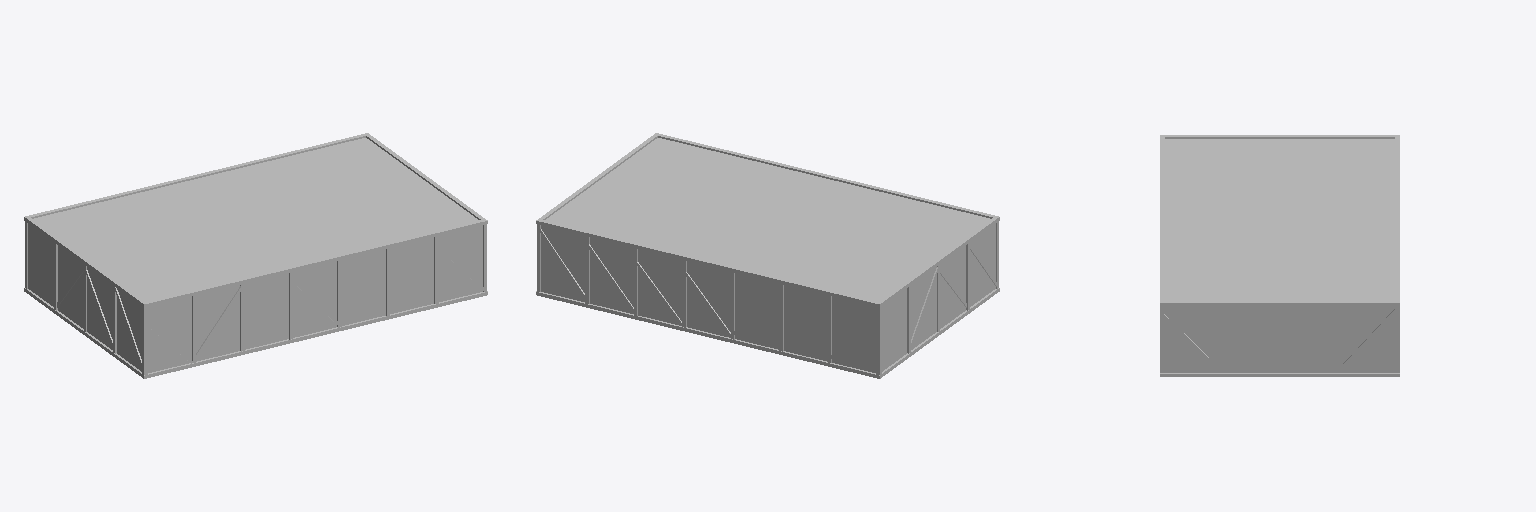
The model's file is floor.obj.
3 views of the same model, side by side, from view 1: azimuth 30°, elevation 25°; view 2: azimuth 150°, elevation 25°; view 3: azimuth 270°, elevation 25° (orthographic).
Visible parts, largest first — view 1: buildingWalls, wood_Parts; view 2: buildingWalls, wood_Parts; view 3: buildingWalls, wood_Parts.
Boxes of the visible parts, x1,y1,x2,y2 form: buildingWalls: [28, 138, 482, 372]; wood_Parts: [24, 133, 487, 378]; buildingWalls: [541, 138, 995, 372]; wood_Parts: [536, 133, 999, 378]; buildingWalls: [1164, 139, 1395, 372]; wood_Parts: [1160, 135, 1399, 376].
Bounding box in the file's own units: 20.25 × 4.2 × 12.25.